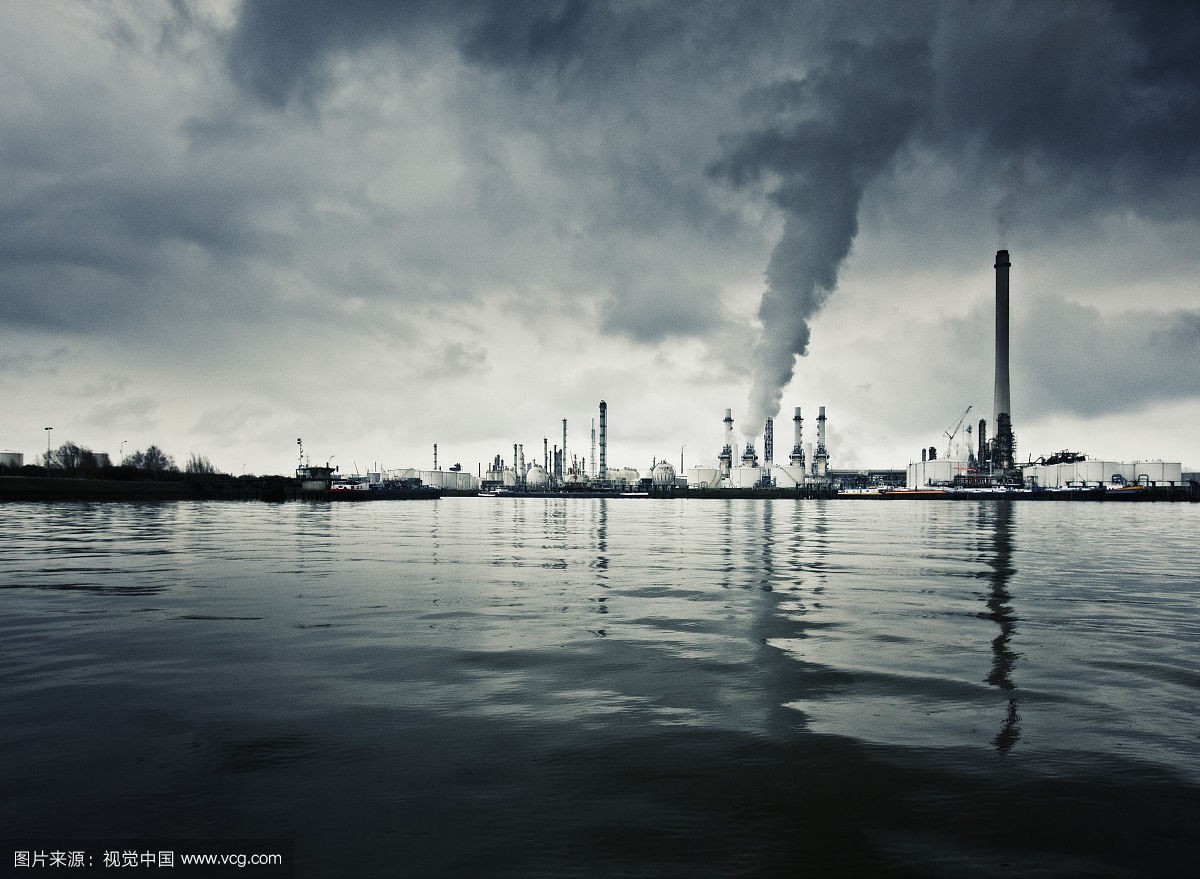dust: (707, 72, 891, 438)
